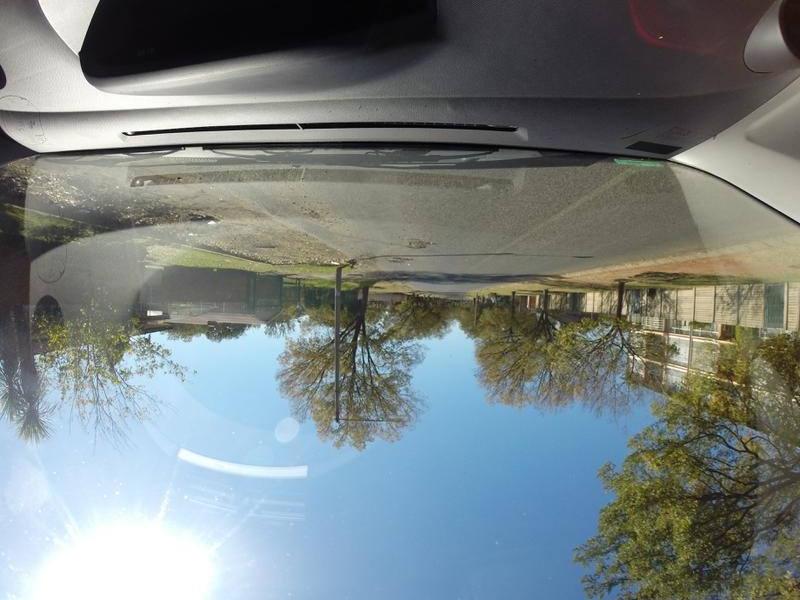pothole: (403, 236, 430, 258), (389, 256, 416, 266)
